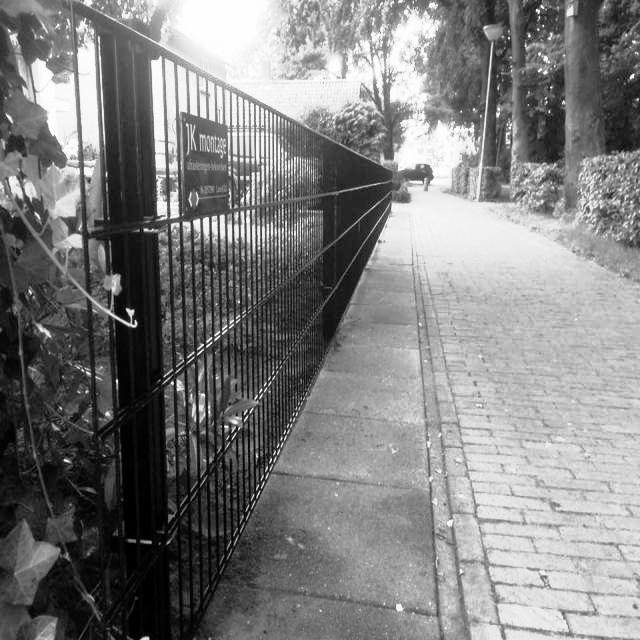fences: (0, 26, 248, 608), (260, 126, 395, 251), (261, 281, 354, 447)
